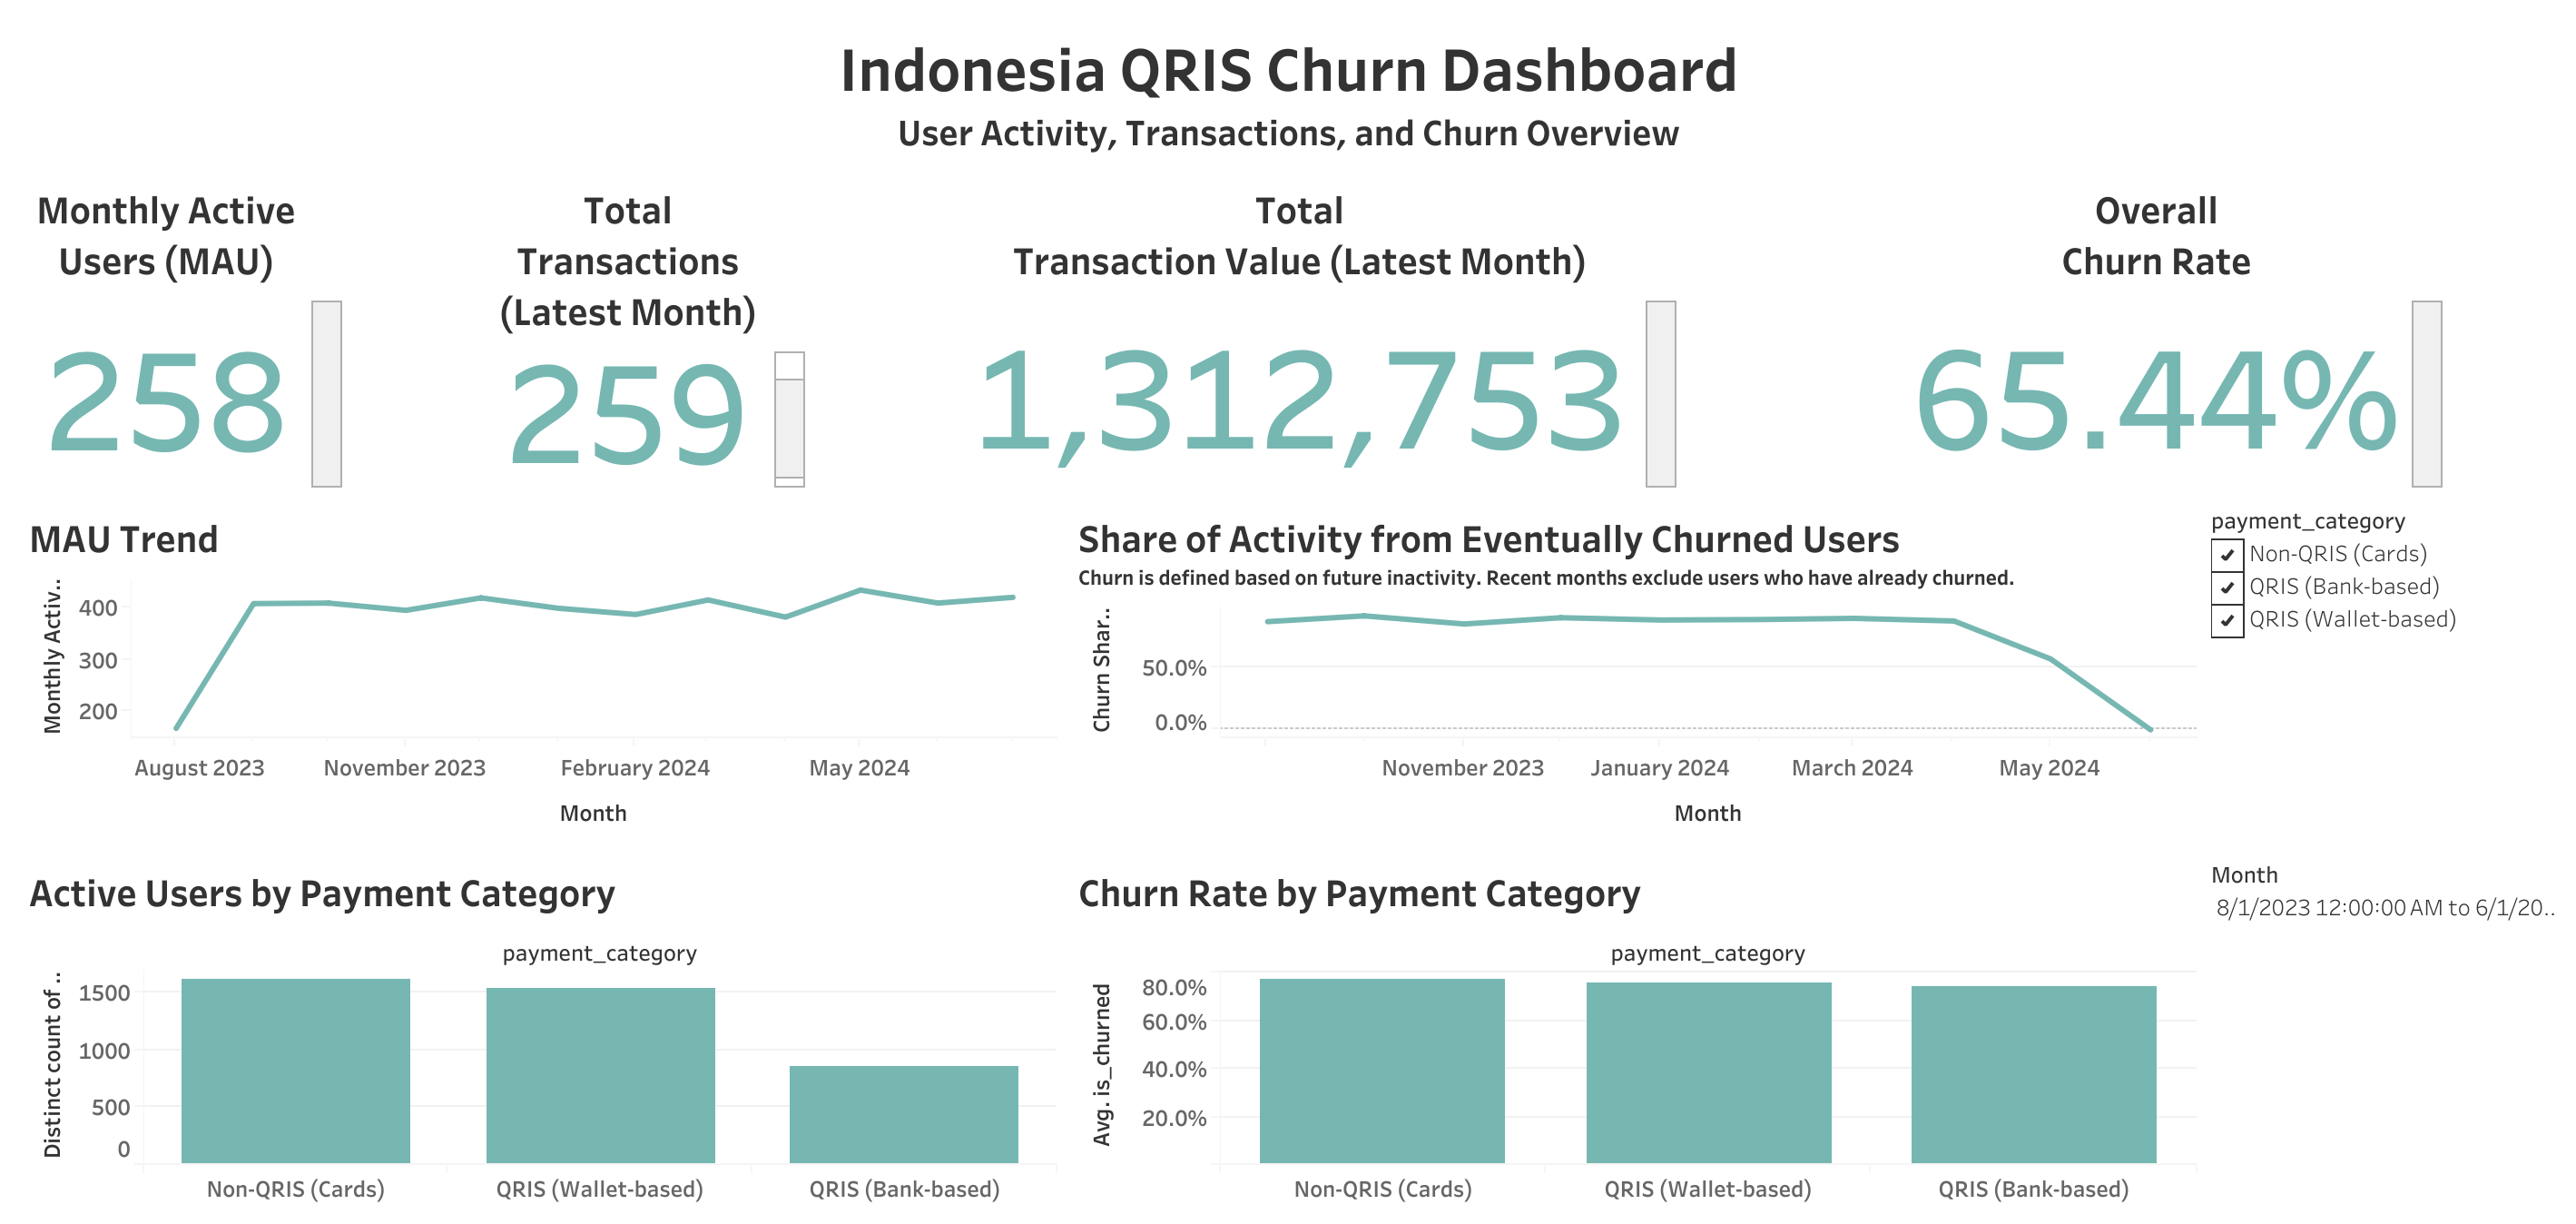

The page's visual inventory and layout, read from the dashboard file:
{"tool":"tableau","page":{"name":"Indonesia QRIS Churn Dashboard","canvas":[1000,1000],"units":"permille","ordinal":0},"visuals":[{"type":"title","box":[6.9,11.1,986.3,115.1]},{"type":"worksheet","title":"MAU KPI","mark":"Text","box":[6.9,126.2,178.5,271.8]},{"type":"worksheet","title":"Total Transactions KPI","mark":"Text","box":[185.4,126.2,182.8,271.8]},{"type":"worksheet","title":"Total Transaction Value KPI","mark":"Text","box":[368.2,126.2,366.5,271.8]},{"type":"worksheet","title":"Overall Churn Rate KPI","mark":"Text","box":[734.7,126.2,258.4,271.8]},{"type":"worksheet","title":"MAU Trend","mark":"Line","rows":["user_id"],"cols":["Calculation_3688960689152003"],"box":[6.9,398.1,406,291.3]},{"type":"worksheet","title":"Churn Share Trend","mark":"Line","rows":["is_churned"],"cols":["Calculation_3688960689152003"],"box":[412.8,398.1,441.2,291.3]},{"type":"filter","title":"Active Users by Payment Category","param":"[federated.0onwk9i1y6os221g27n1z06cbbuj].[none:payment_category:nk]","box":[854.1,398.1,139.1,291.3]},{"type":"worksheet","title":"Active Users by Payment Category","mark":"Automatic","rows":["user_id"],"cols":["payment_category"],"box":[6.9,689.3,406,299.6]},{"type":"worksheet","title":"Churn Rate by Payment Category","mark":"Automatic","rows":["is_churned"],"cols":["payment_category"],"box":[412.8,689.3,441.2,299.6]},{"type":"filter","title":"Active Users by Payment Category","param":"[federated.0onwk9i1y6os221g27n1z06cbbuj].[none:Calculation_3688960689152003:qk]","box":[854.1,689.3,139.1,299.6]}]}

Visuals, with their boxes on the dashboard's canvas, which has no fixed pixel size, in thousandths of its width and height (x1, y1, x2, y2). These are canvas units, not pixel positions in the 2576x1224 screenshot, which may show the page scaled, cropped or inside an application window:
title: crop(7, 11, 993, 126)
"MAU KPI" worksheet (Text marks): crop(7, 126, 185, 398)
"Total Transactions KPI" worksheet (Text marks): crop(185, 126, 368, 398)
"Total Transaction Value KPI" worksheet (Text marks): crop(368, 126, 735, 398)
"Overall Churn Rate KPI" worksheet (Text marks): crop(735, 126, 993, 398)
"MAU Trend" worksheet (Line marks): crop(7, 398, 413, 689)
"Churn Share Trend" worksheet (Line marks): crop(413, 398, 854, 689)
"Active Users by Payment Category" filter: crop(854, 398, 993, 689)
"Active Users by Payment Category" worksheet: crop(7, 689, 413, 989)
"Churn Rate by Payment Category" worksheet: crop(413, 689, 854, 989)
"Active Users by Payment Category" filter: crop(854, 689, 993, 989)
